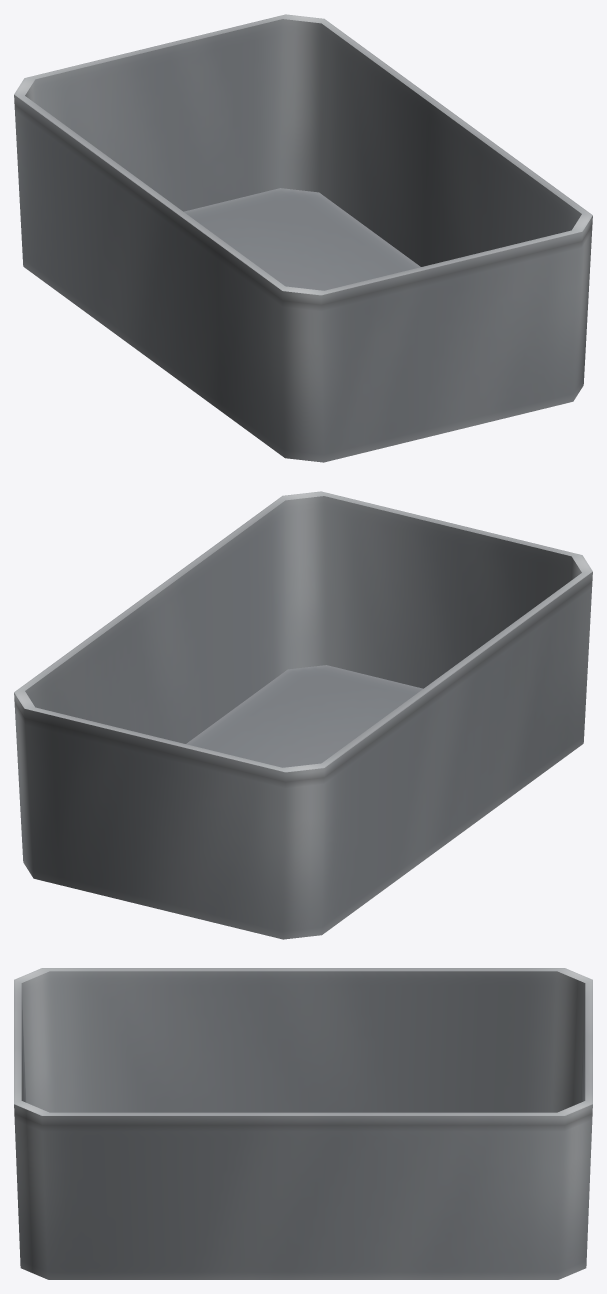
Rendered from jsf_Bat_02.fbx.
3 views of the same model, one above another, from view 1: azimuth 30°, elevation 25°; view 2: azimuth 150°, elevation 25°; view 3: azimuth 270°, elevation 25° (orthographic). The views are drawn at different scales.
Parts seen in each view (by area): view 1: jsf_Bat_02; view 2: jsf_Bat_02; view 3: jsf_Bat_02.
Boxes of the visible parts, x1=… form: jsf_Bat_02: x1=14, y1=14, x2=592, y2=462; jsf_Bat_02: x1=14, y1=491, x2=592, y2=939; jsf_Bat_02: x1=14, y1=968, x2=592, y2=1279.
Size of the model in its own units: 15.76 by 8.29 by 26.1.
